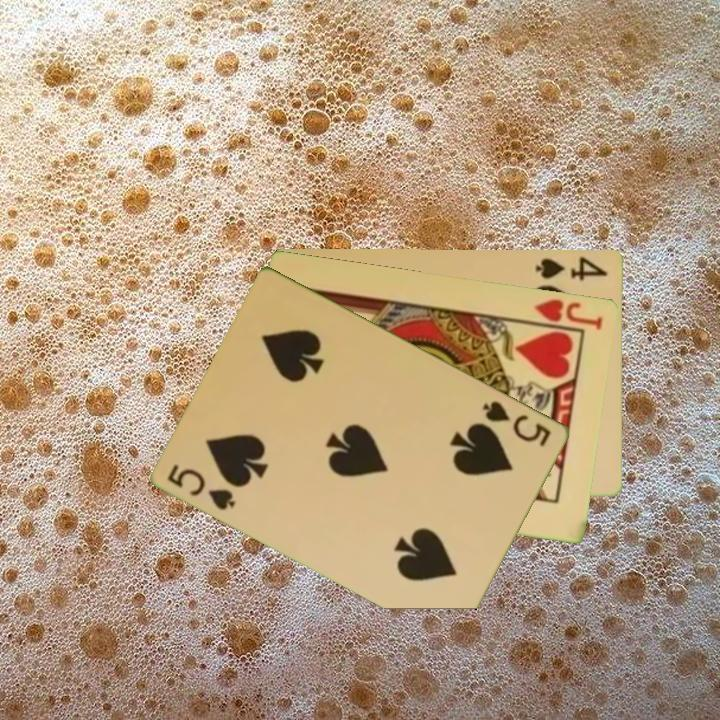4s: (533, 252, 611, 283)
5s: (479, 396, 555, 450), (164, 460, 240, 513)
Jh: (521, 295, 606, 333)
